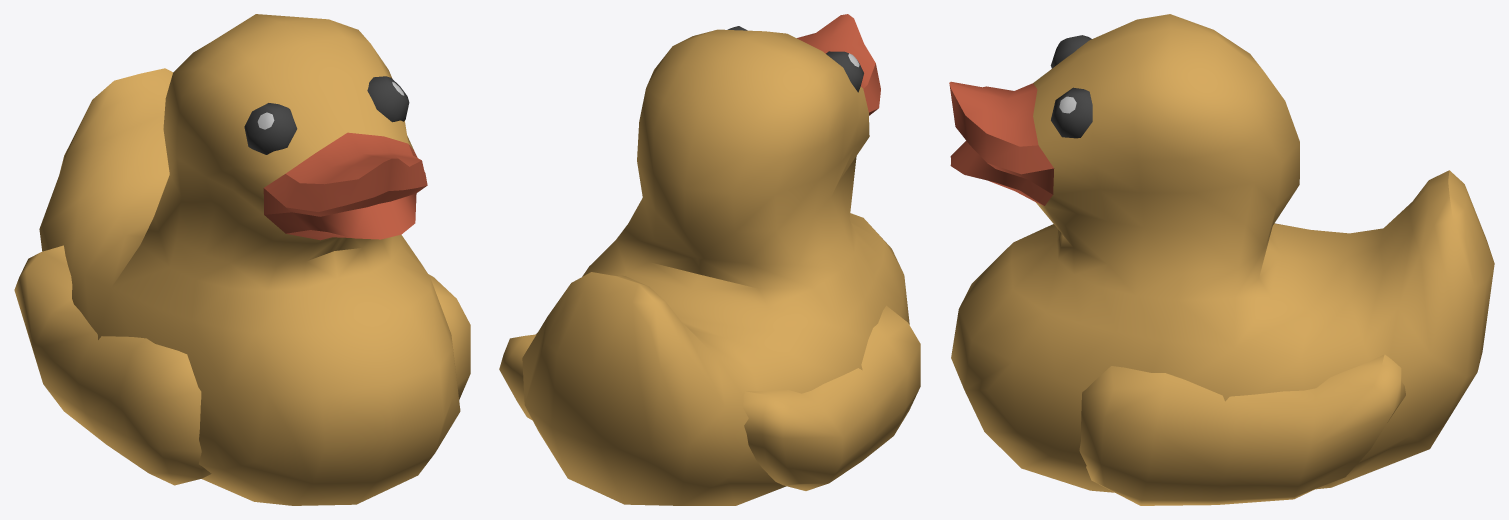
Rendered from RubberDuck_01.fbx.
3 views of the same model, side by side, from view 1: azimuth 30°, elevation 25°; view 2: azimuth 150°, elevation 25°; view 3: azimuth 270°, elevation 25° (orthographic). The views are drawn at different scales.
Parts seen in each view (by area): view 1: RubberDuck_01; view 2: RubberDuck_01; view 3: RubberDuck_01.
Boxes of the visible parts, x1,y1,x2,y2 form: RubberDuck_01: [14, 14, 470, 505]; RubberDuck_01: [499, 14, 920, 505]; RubberDuck_01: [949, 14, 1494, 505].
Bounding box in the file's own units: 0.1173 × 0.142 × 0.1582.
